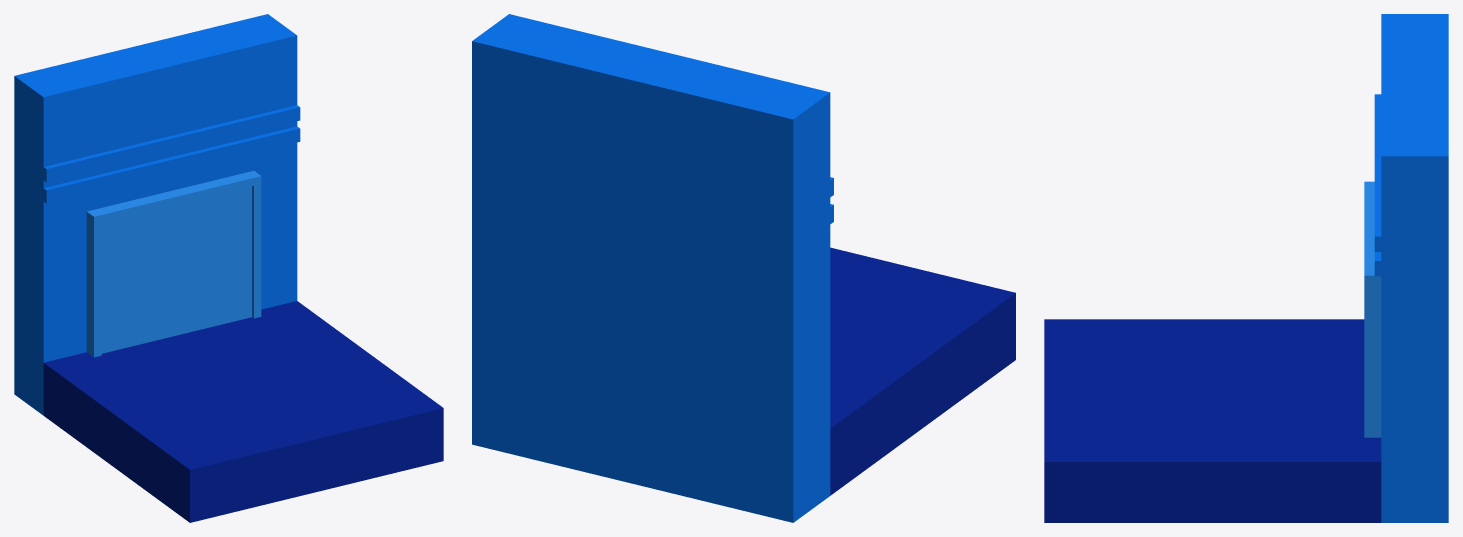
File: arcade_tile_wall_door.fbx
3 views of the same model, side by side, from view 1: azimuth 30°, elevation 25°; view 2: azimuth 150°, elevation 25°; view 3: azimuth 270°, elevation 25° (orthographic). The views are drawn at different scales.
Visible parts, largest first — view 1: wall, tile_wall_door, door_right, door_left, doorway; view 2: wall, tile_wall_door; view 3: tile_wall_door, wall, doorway.
Part boxes in pixels (x1,y1,x2,y2): wall: [14, 14, 300, 415]; tile_wall_door: [43, 301, 443, 522]; door_right: [176, 186, 251, 335]; door_left: [101, 205, 175, 353]; doorway: [86, 171, 261, 357]; wall: [472, 14, 833, 522]; tile_wall_door: [830, 247, 1015, 495]; tile_wall_door: [1044, 319, 1381, 522]; wall: [1374, 14, 1448, 522]; doorway: [1364, 181, 1381, 437].
Bounding box in the file's own units: 5 × 6 × 6.
